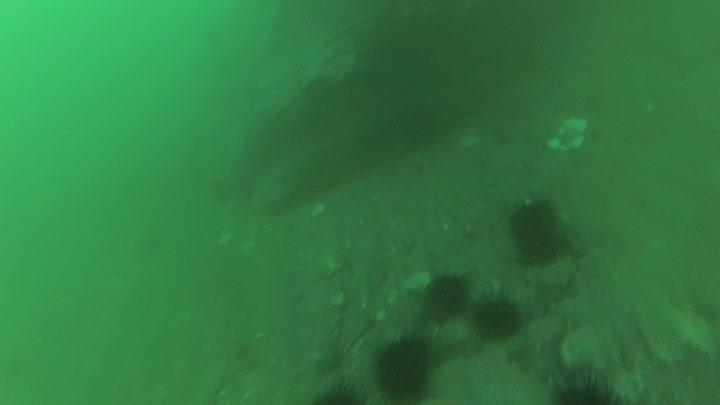urchin: (369, 334, 441, 398), (500, 194, 559, 244), (550, 372, 631, 405), (476, 294, 522, 336), (425, 271, 463, 317)
